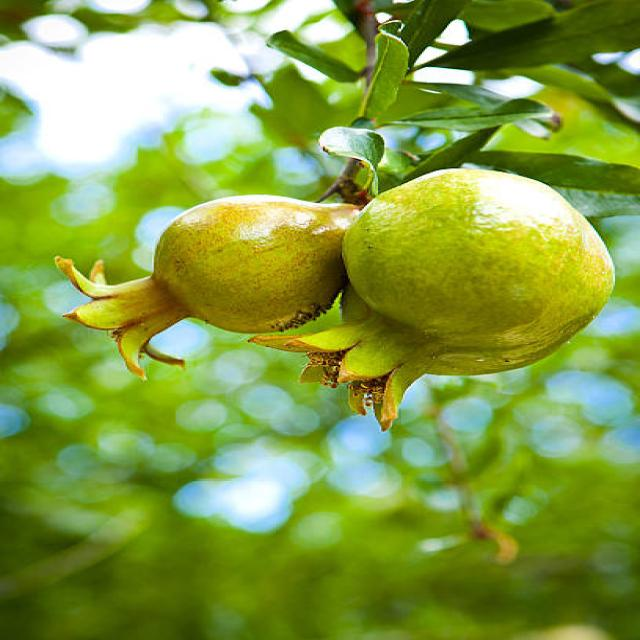Unripe: (261, 166, 611, 427), (51, 194, 366, 378)
